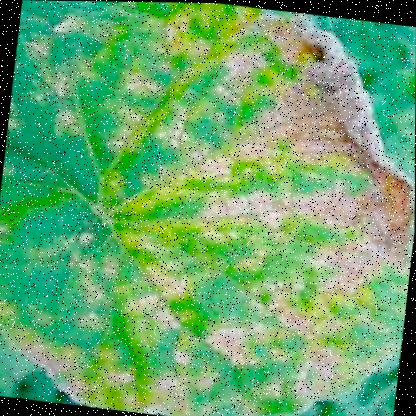Anthracnose: (73, 1, 415, 372)
